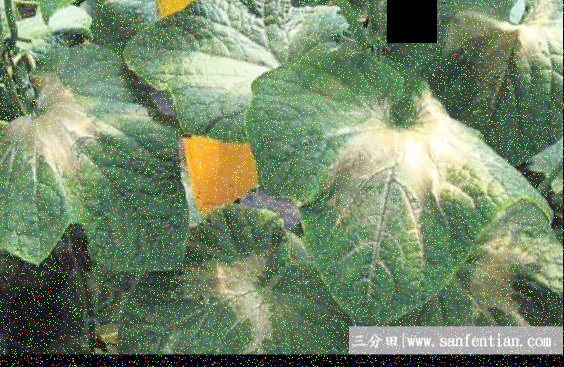cucumber_plant: (256, 46, 526, 319), (8, 31, 194, 270)
